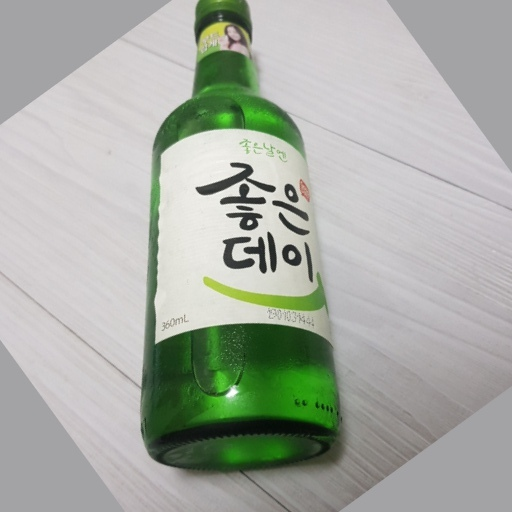Glass_0: (139, 1, 348, 472)
